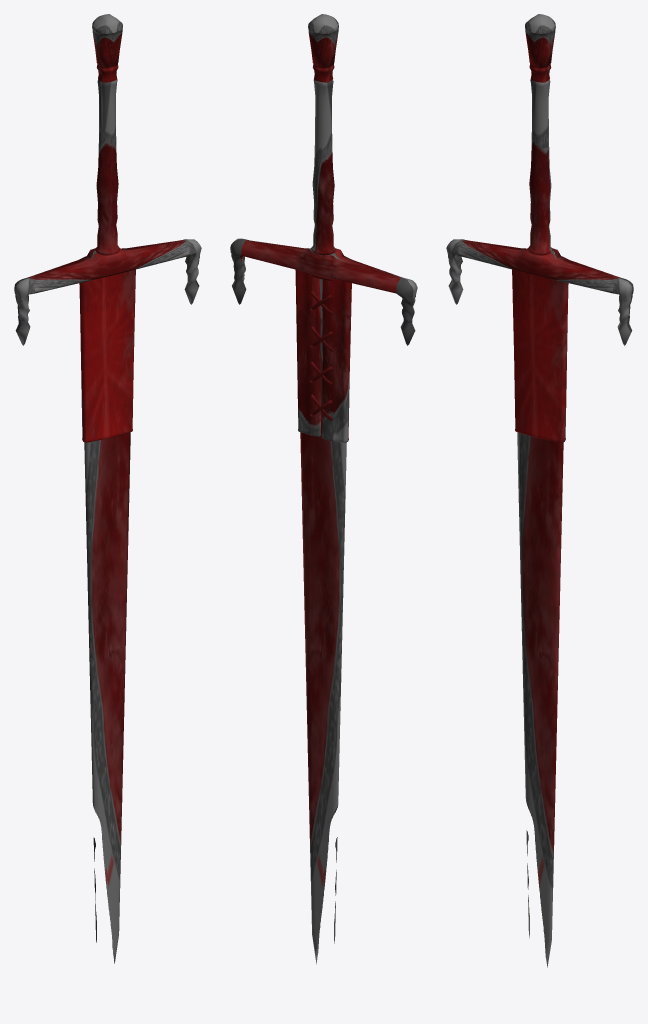
The model's file is weapon-wp_a_0641.glb.
3 renders of one model, left to right at view 1: azimuth 30°, elevation 25°; view 2: azimuth 150°, elevation 25°; view 3: azimuth 330°, elevation 25°, orthographic.
Parts seen in each view (by area): view 1: wp_a_0641_mesh; view 2: wp_a_0641_mesh; view 3: wp_a_0641_mesh.
Boxes of the visible parts, <box> form: wp_a_0641_mesh: <box>14,14,201,963</box>; wp_a_0641_mesh: <box>230,14,417,964</box>; wp_a_0641_mesh: <box>446,14,633,967</box>.
Bounding box in the file's own units: 0.3062 × 1.58 × 0.0412.
1 material, 1 textured.
